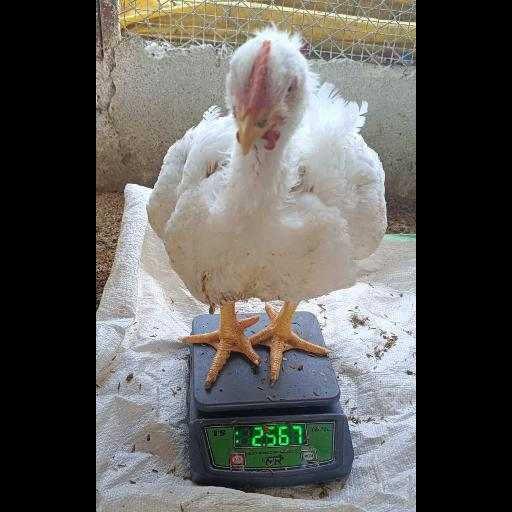chick: (145, 26, 387, 388)
